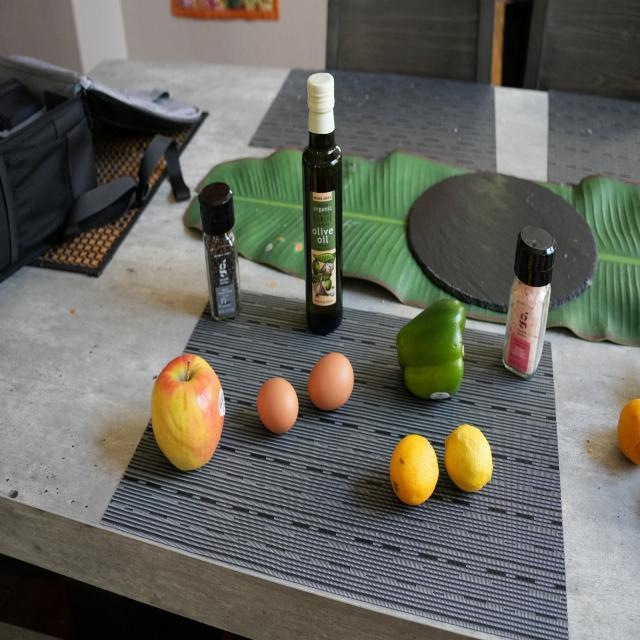bell_pepper: (392, 288, 477, 402), (194, 181, 249, 328)
egg: (306, 349, 362, 419), (253, 377, 305, 438)
